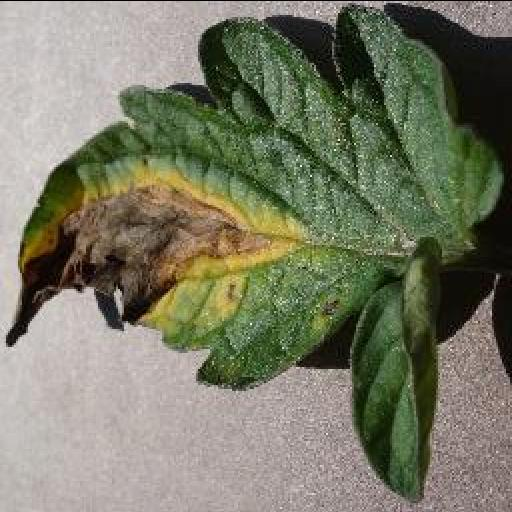Early Blight: (8, 0, 512, 393)
